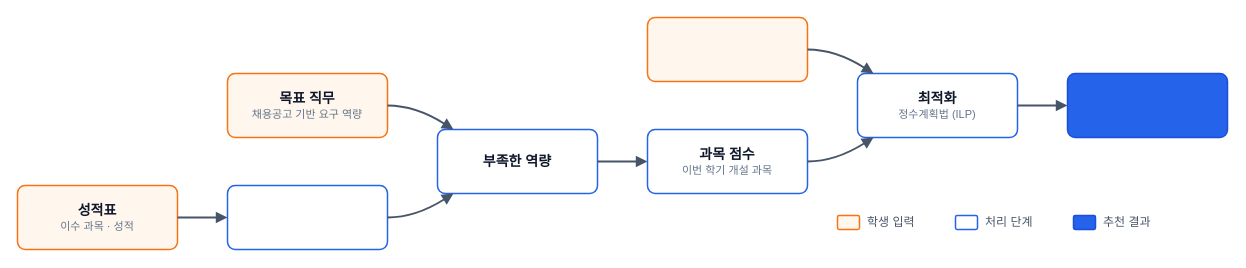
The diagram is 1246 pixels wide and 268 high, and some of its shapes have lost their labels. The centre of each missing label's shape, as x and y in pixels:
수강 조건 학점 · 공강 · 졸업요건: [727,49]
추천 시간표 + 과목별 근거: [1147,105]
현재 역량 진단 10개 역량: [307,217]
